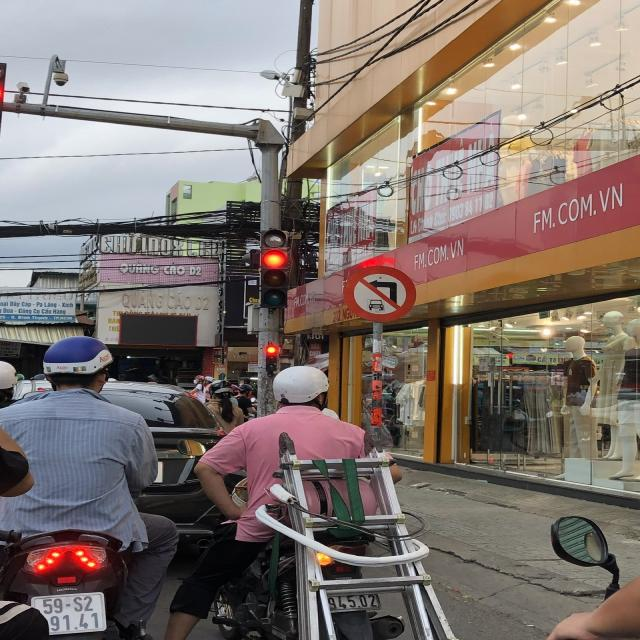Bien bao cam xe o to re trai: (330, 259, 437, 327)
